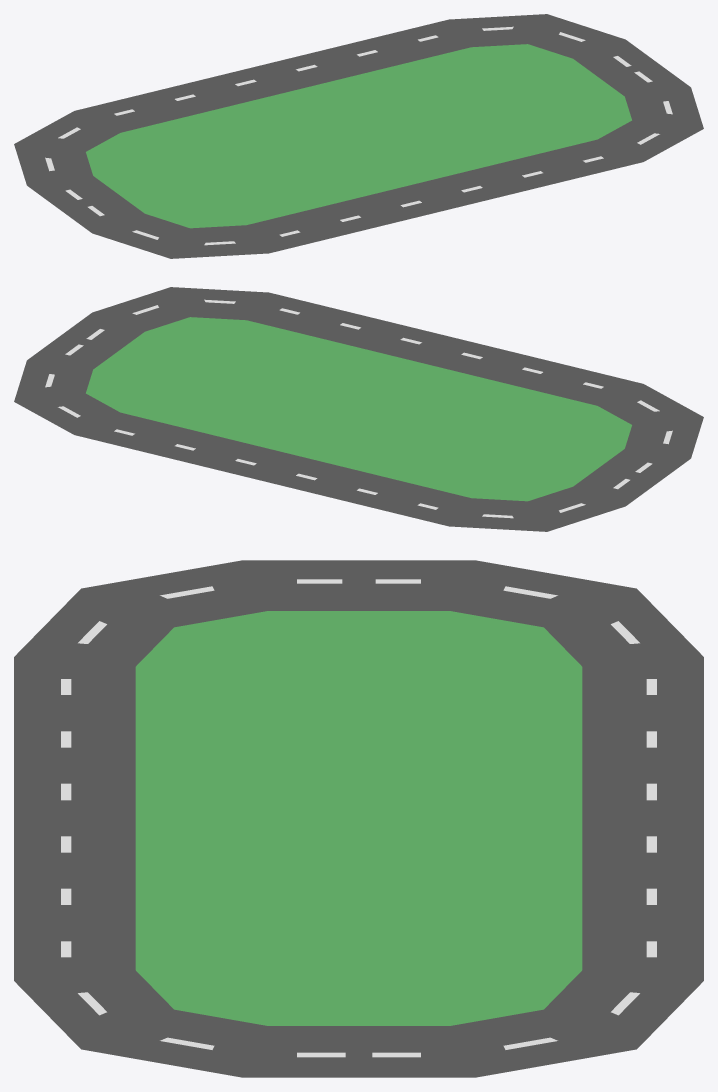
The model's file is Carpat_M_01.fbx.
3 views of the same model, one above another, from view 1: azimuth 30°, elevation 25°; view 2: azimuth 150°, elevation 25°; view 3: azimuth 270°, elevation 25° (orthographic). The views are drawn at different scales.
Visible parts, largest first — view 1: Carpat_M_01; view 2: Carpat_M_01; view 3: Carpat_M_01.
Boxes of the visible parts, bbox=[...] form: Carpat_M_01: bbox=[14, 14, 703, 258]; Carpat_M_01: bbox=[14, 287, 703, 531]; Carpat_M_01: bbox=[14, 560, 703, 1077].
Bounding box in the file's own units: 203 × 0.1436 × 114.
Materials: 1 (1 with a texture image).
